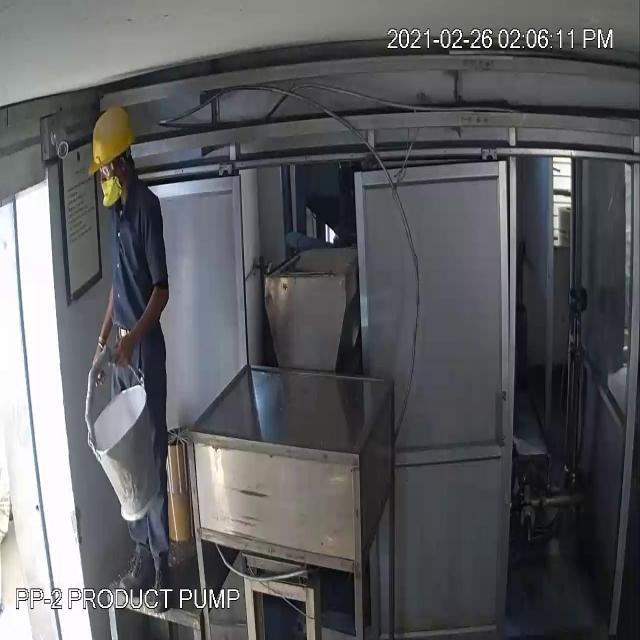hat: (80, 103, 137, 181)
